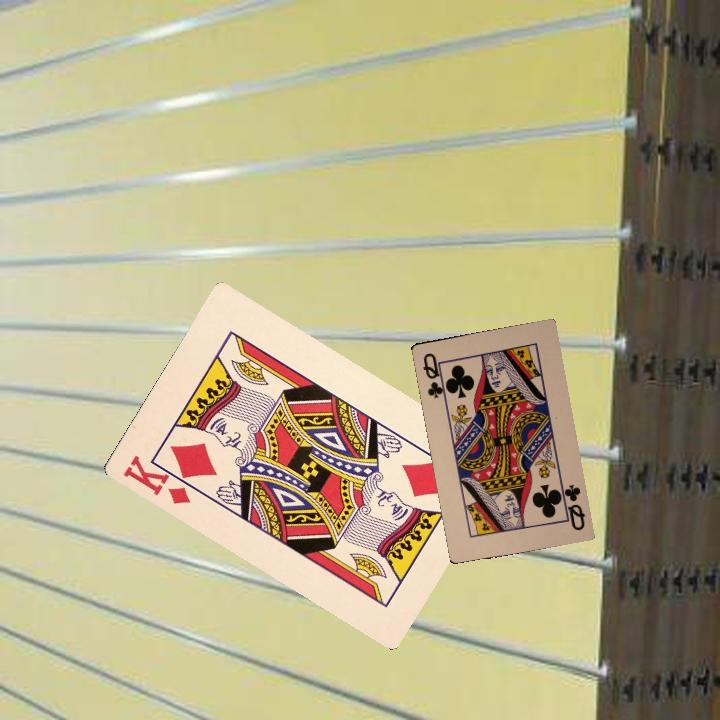Kd: (118, 451, 199, 507)
Qc: (556, 480, 587, 533), (419, 349, 448, 401)
